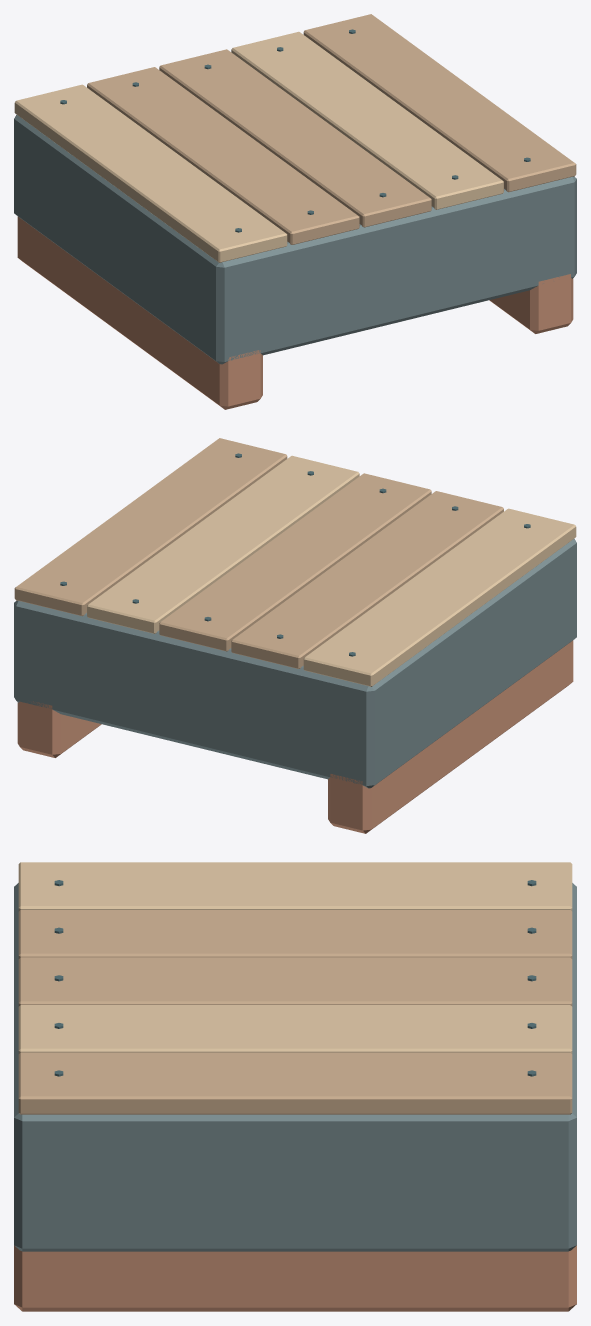
The model's file is floor_1m.glb.
3 views of the same model, one above another, from view 1: azimuth 30°, elevation 25°; view 2: azimuth 150°, elevation 25°; view 3: azimuth 270°, elevation 25° (orthographic). The views are drawn at different scales.
Visible parts, largest first — view 1: floor_1m; view 2: floor_1m; view 3: floor_1m.
Part boxes in pixels (<box>): floor_1m: <box>14,14,576,409</box>; floor_1m: <box>14,438,576,833</box>; floor_1m: <box>14,862,576,1311</box>.
Bounding box in the file's own units: 1 × 0.434 × 1.
